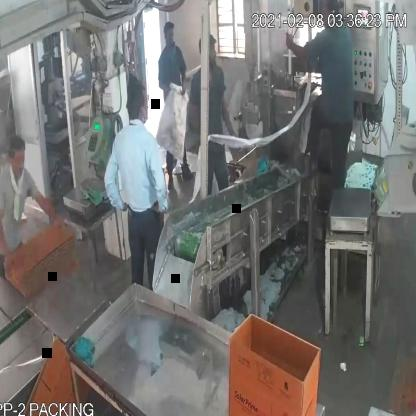no_glove: (100, 144, 131, 214), (30, 180, 67, 232), (148, 142, 172, 218), (218, 86, 247, 148), (0, 196, 18, 271), (281, 32, 327, 61)
